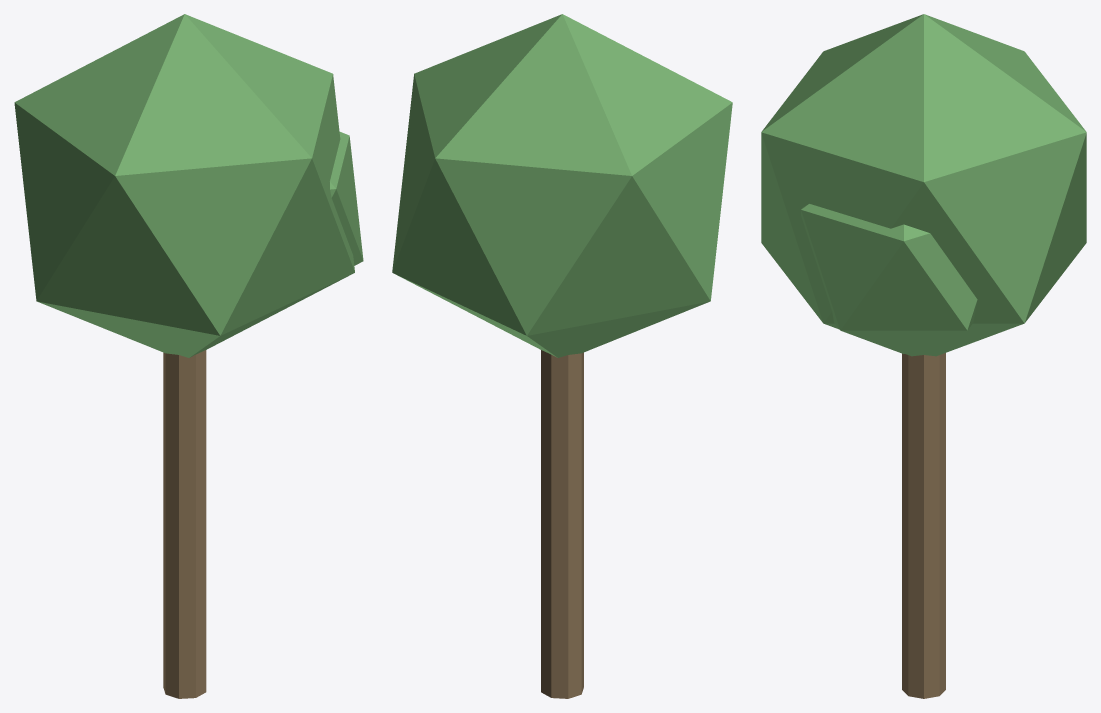
File: tree_02.glb
The picture shows the model from 3 angles, left to right: view 1: azimuth 30°, elevation 25°; view 2: azimuth 150°, elevation 25°; view 3: azimuth 270°, elevation 25°; orthographic projection.
Parts seen in each view (by area): view 1: TreeCrown.001, TreeTrunk.001, TreeCrown2; view 2: TreeCrown.001, TreeTrunk.001; view 3: TreeCrown.001, TreeCrown2, TreeTrunk.001.
Boxes of the visible parts, left/top/right/bottom form: TreeCrown.001: left=14, top=14, right=354, bottom=357; TreeTrunk.001: left=163, top=350, right=206, bottom=698; TreeCrown2: left=330, top=132, right=363, bottom=265; TreeCrown.001: left=392, top=14, right=732, bottom=357; TreeTrunk.001: left=541, top=350, right=583, bottom=698; TreeCrown.001: left=761, top=14, right=1086, bottom=356; TreeCrown2: left=801, top=204, right=977, bottom=353; TreeTrunk.001: left=902, top=353, right=945, bottom=698.
Size of the model in its own units: 3.47 by 7.4 by 3.23.
